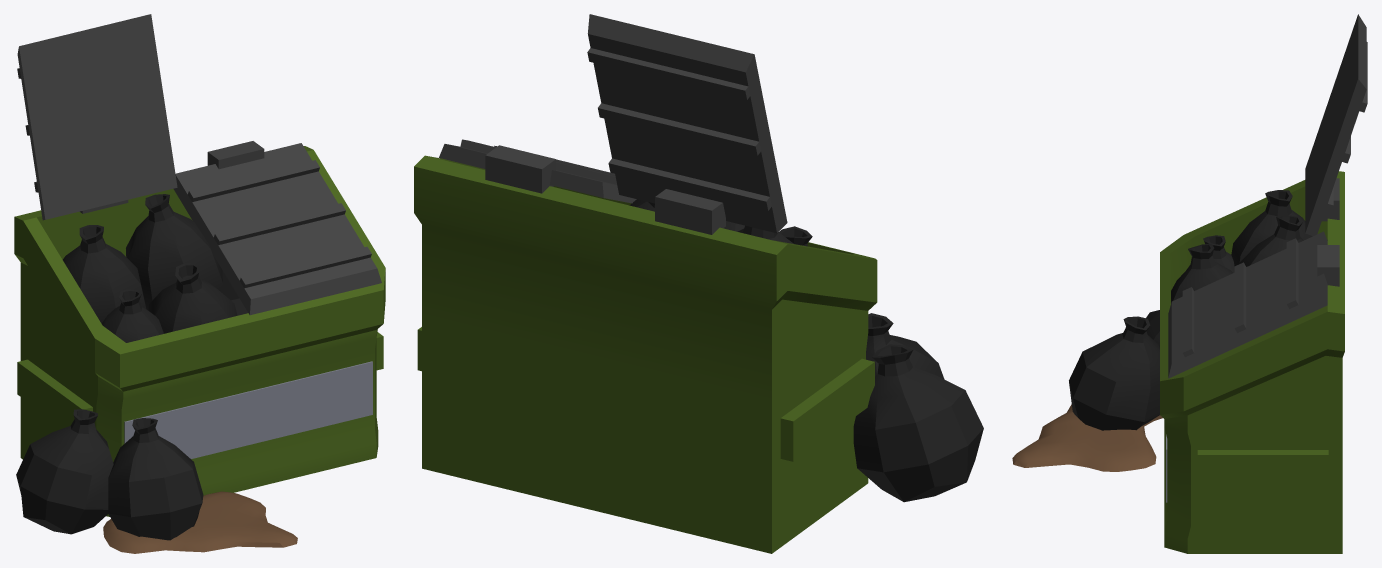
Rendered from Trash Container Open.glb.
3 renders of one model, left to right at view 1: azimuth 30°, elevation 25°; view 2: azimuth 150°, elevation 25°; view 3: azimuth 270°, elevation 25°, orthographic. The views are drawn at different scales.
Parts seen in each view (by area): view 1: Trash Container Open; view 2: Trash Container Open; view 3: Trash Container Open.
Part boxes in pixels (x1,y1,x2,y2): Trash Container Open: (14,14,385,553); Trash Container Open: (414,14,983,553); Trash Container Open: (1012,14,1367,553).
Size of the model in its own units: 1.01 by 1.07 by 0.8401.
